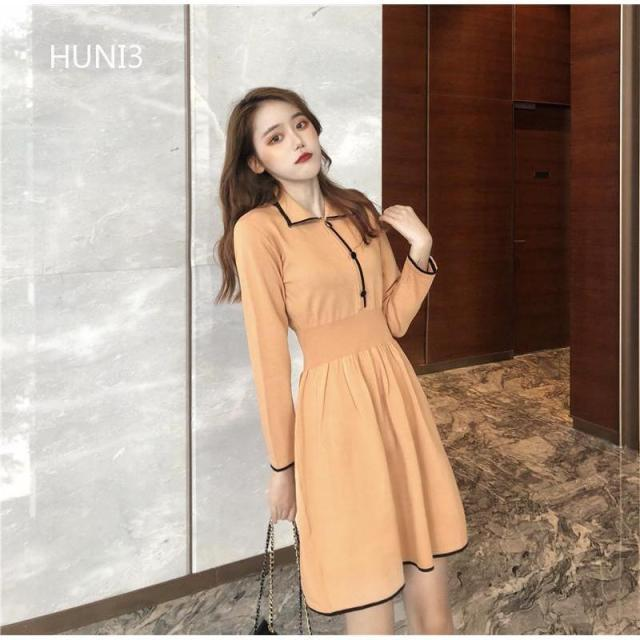dress: (231, 188, 469, 602)
